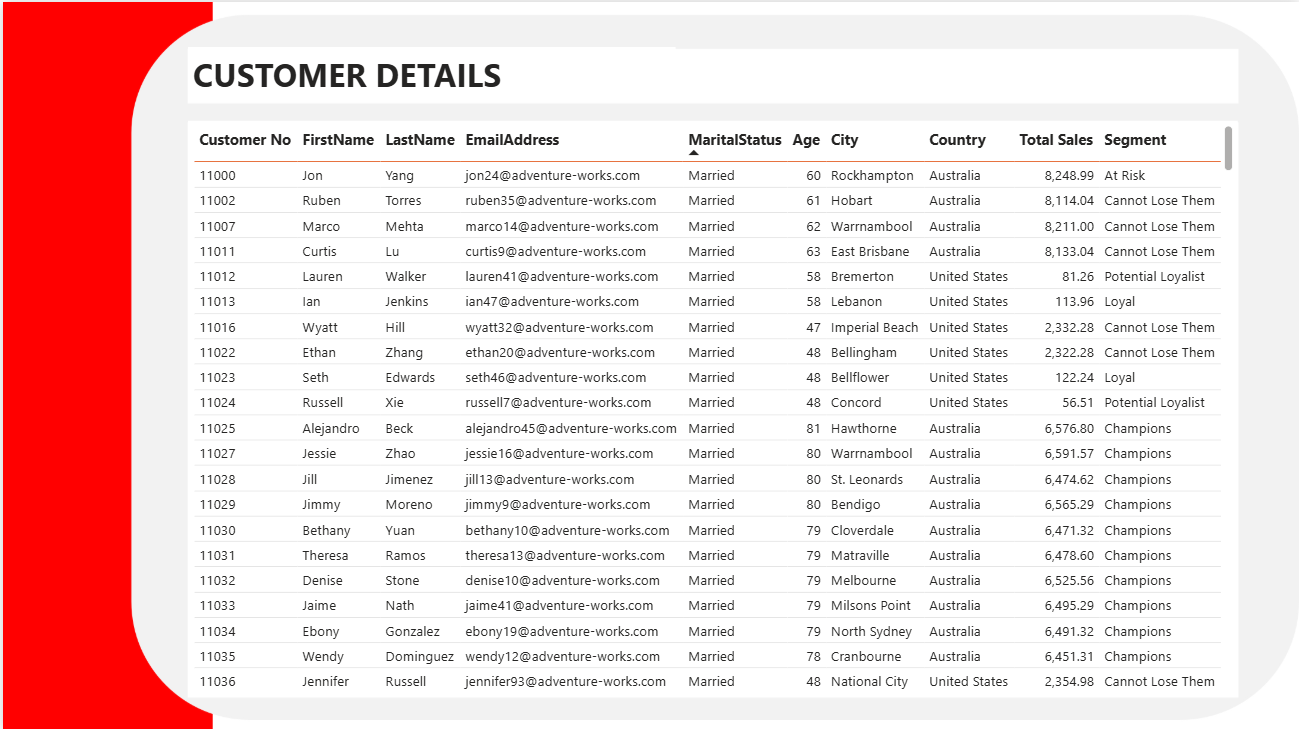

What the dashboard file says about the page in this screenshot:
{"tool":"powerbi","page":{"name":"Customer Details","canvas":[1280,720],"ordinal":2},"visuals":[{"type":"textbox","box":[182.7,44.4,481.5,54.3],"z":0},{"type":"tableEx","fields":{"Values":["DimCustomer.CustomerKey","DimCustomer.FirstName","DimCustomer.LastName","DimCustomer.EmailAddress","DimCustomer.MaritalStatus","Sum(DimCustomer.Age)","DimGeography.City","DimGeography.Country","Sum(FactInternetSales.SalesAmount)","Segments Table.Segment"]},"box":[182.7,117.3,1037,569.1],"z":1000}]}

Visuals, with their boxes in screenshot pixels (x1, y1, x2, y2), scaled from the page's 1280x720 canvas onto the 1299x729 screenshot:
textbox: left=185, top=45, right=674, bottom=100
tableEx - DimCustomer.CustomerKey x DimCustomer.FirstName: left=185, top=119, right=1238, bottom=695
